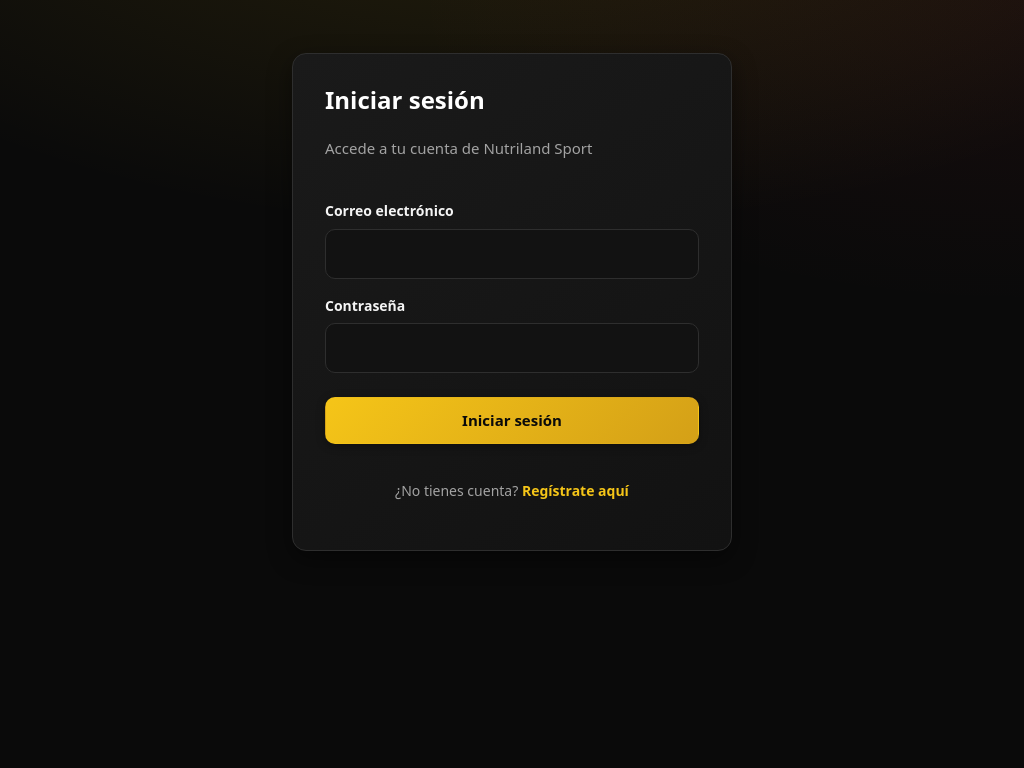
it: LoginPage › renderiza formulario y valida campos vacíos
This screenshot has width=1024, height=768.
Expected: the heading "Iniciar sesión" is shown, 325,83 -> 485,116
Click the button "Iniciar sesión".
click(512, 420)  # box 325,397 -> 699,444
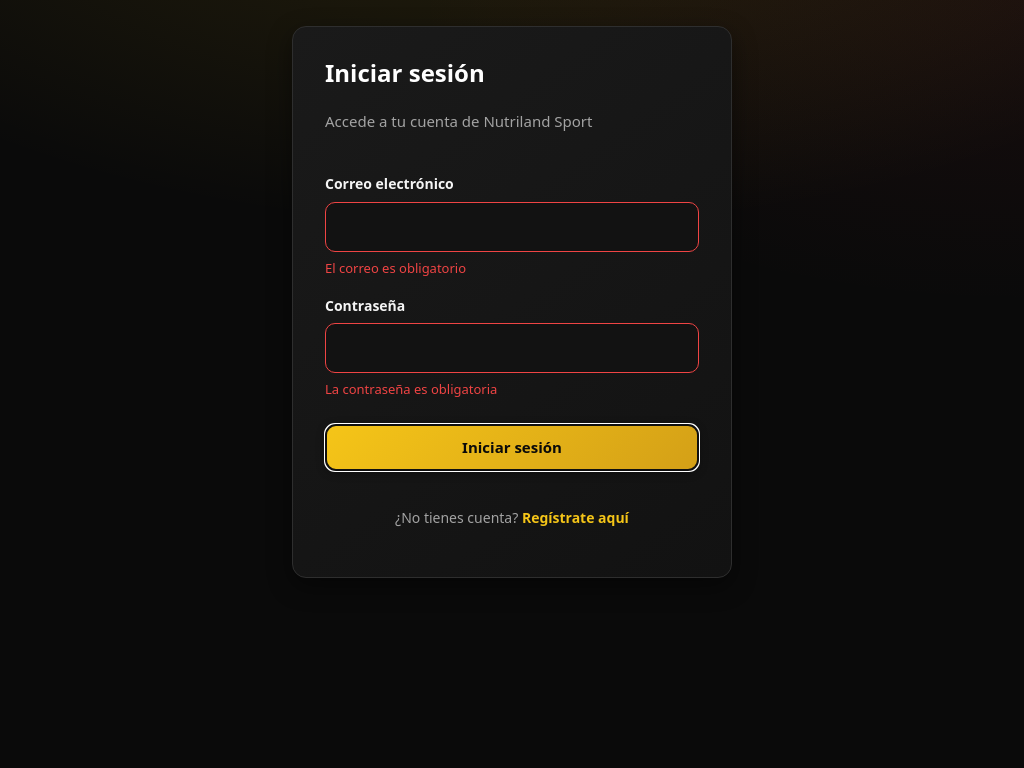
Now the text "El correo es obligatorio" is shown, box 325,259 -> 466,277
